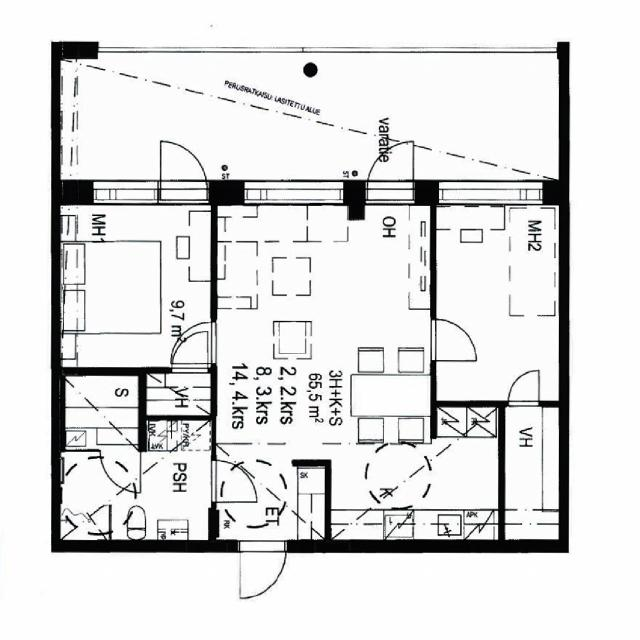door: (368, 133, 413, 204), (161, 133, 206, 204), (240, 540, 286, 598), (430, 318, 477, 360), (212, 461, 256, 501), (173, 323, 216, 363), (172, 330, 208, 373), (100, 448, 137, 489), (509, 369, 539, 406)
